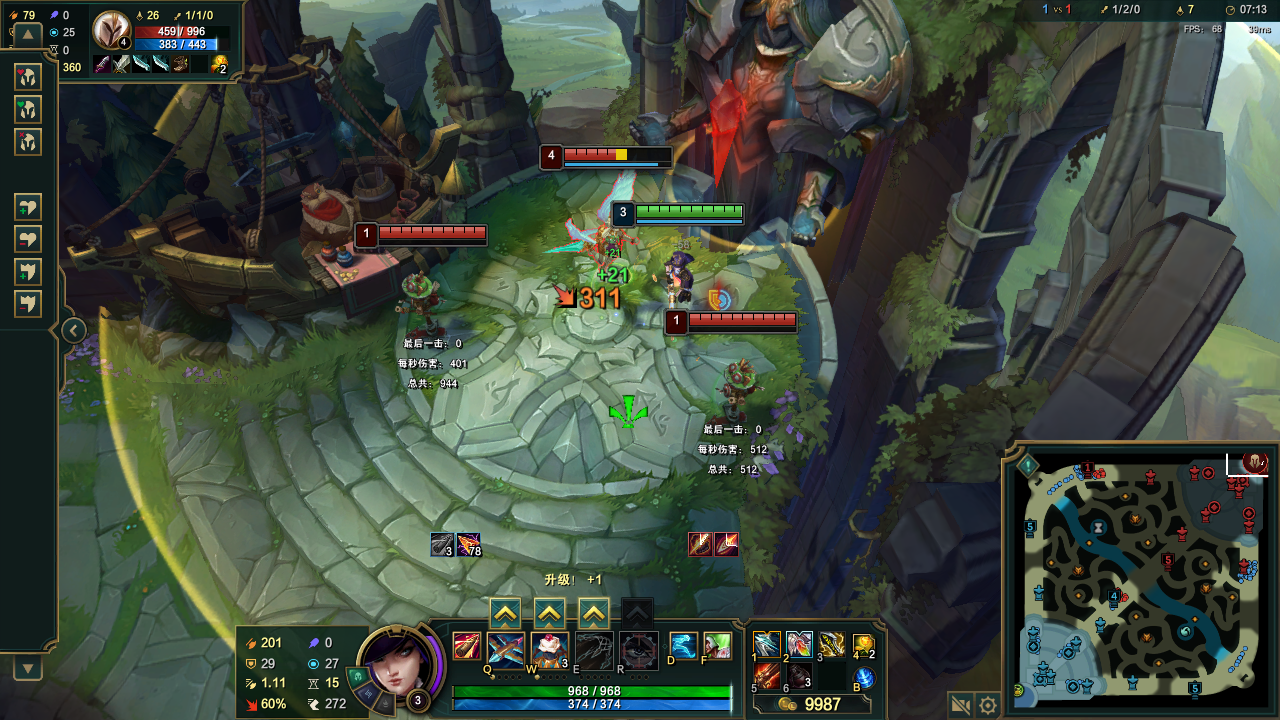DFYX: (690, 311, 800, 327), (380, 225, 489, 238), (568, 147, 675, 160)
